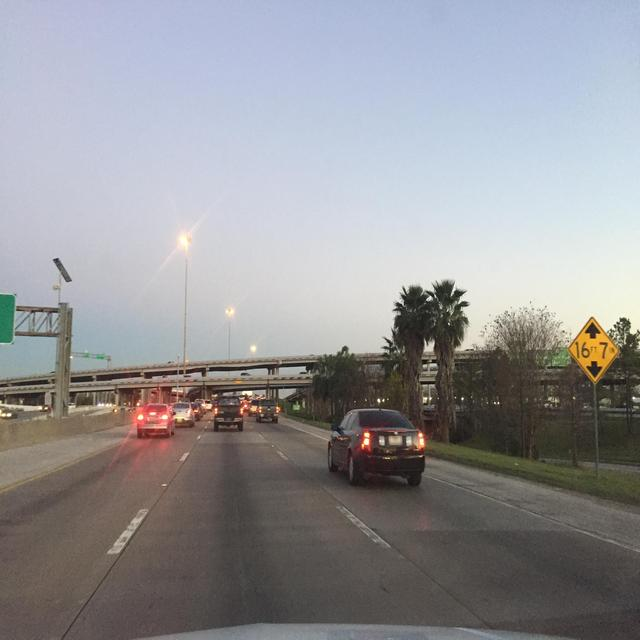Barrier: (0, 403, 142, 451)
Car: (328, 406, 424, 486), (136, 396, 278, 437), (0, 404, 52, 419)
Vegetation: (295, 278, 592, 466), (596, 316, 639, 434), (151, 394, 156, 402)
